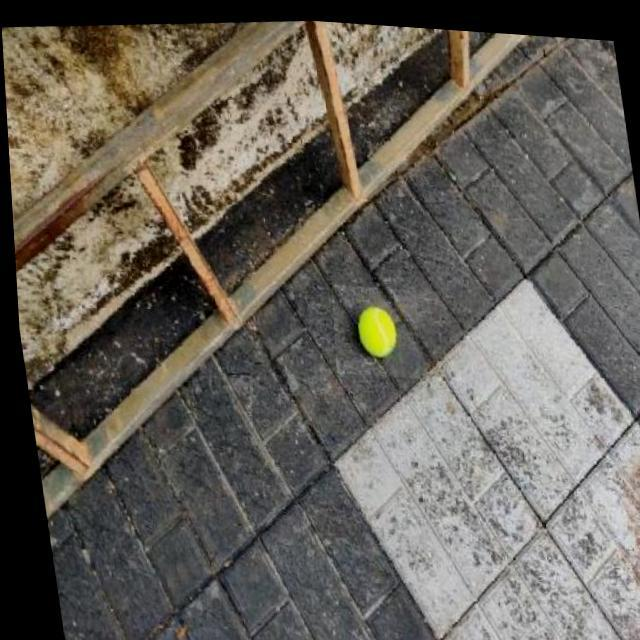-: (328, 281, 416, 373)
